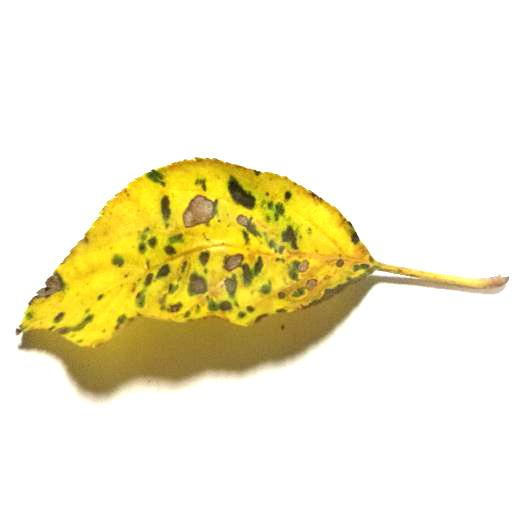Brown_Spot: (303, 278, 357, 313), (174, 192, 221, 231), (289, 257, 320, 301), (32, 272, 65, 298), (227, 275, 248, 302), (220, 251, 239, 273), (185, 272, 203, 293), (234, 214, 249, 233)
